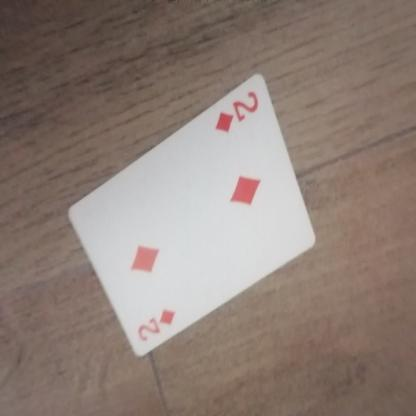2D: (122, 299, 190, 352), (211, 86, 268, 138)
